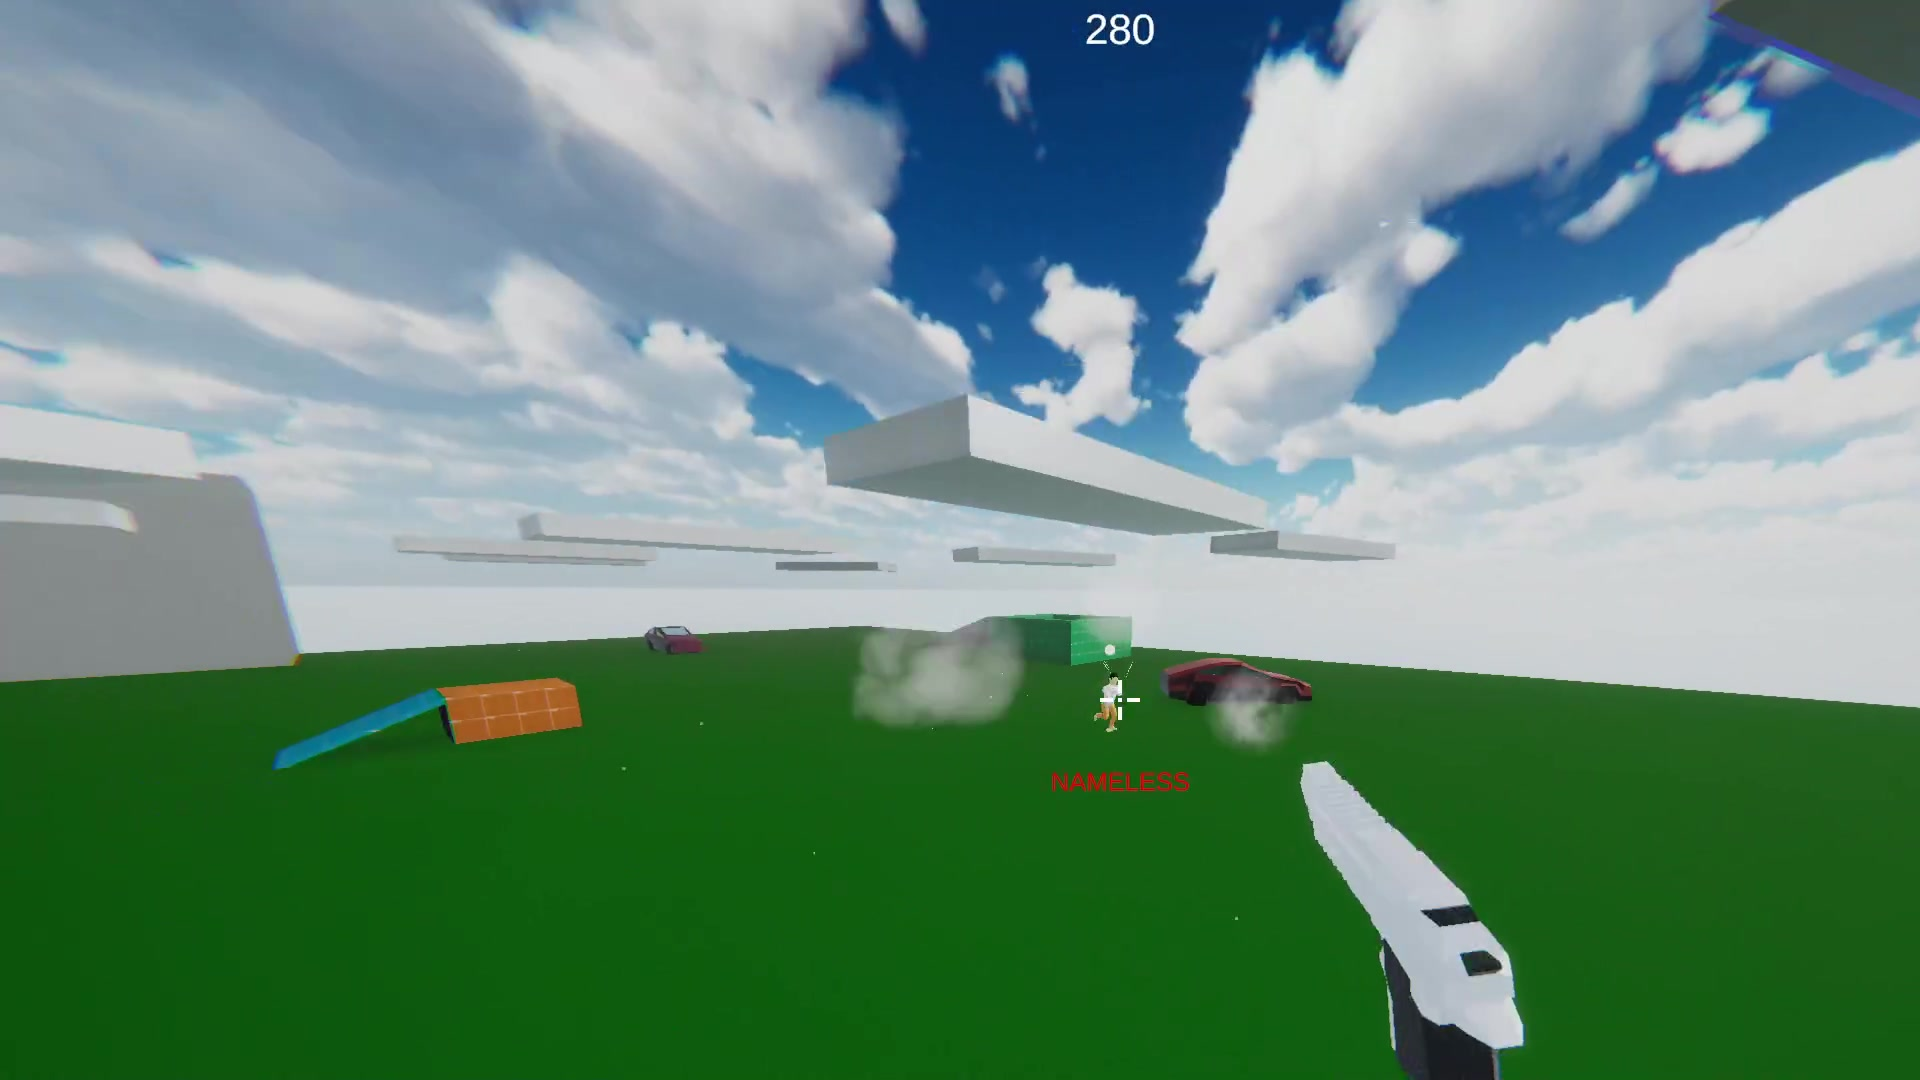human: (1106, 674, 1121, 734)
